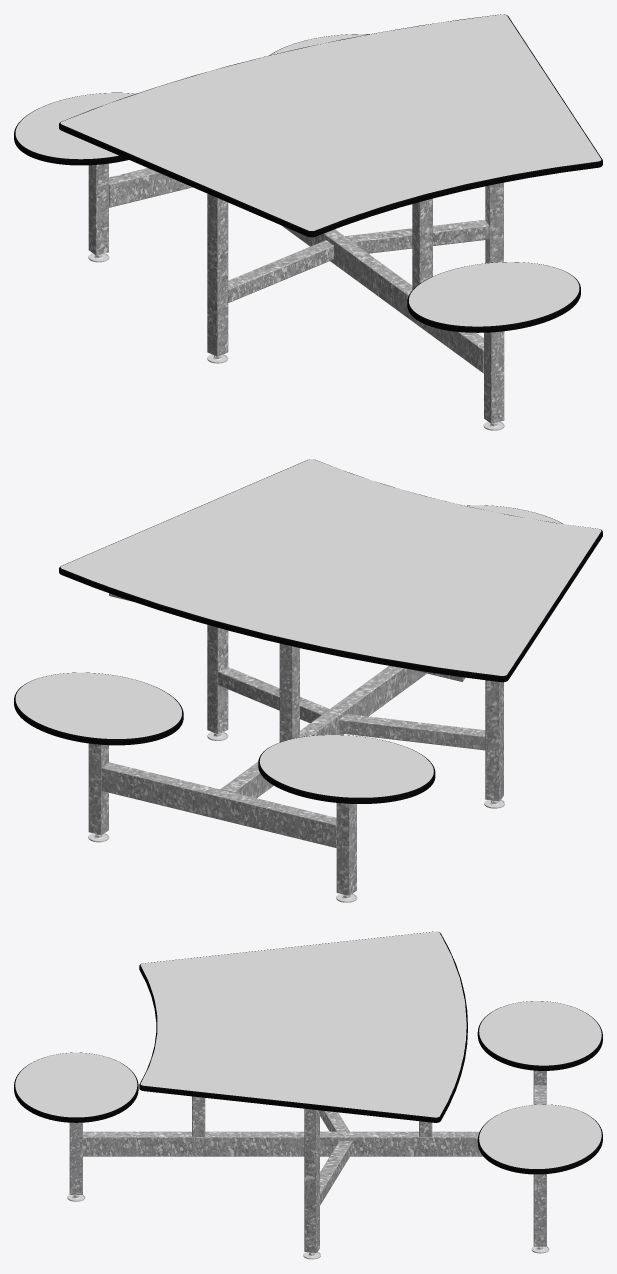
Rendered from fantas-tisch-bambini-bogenfoermig.glb.
3 renders of one model, top to bottom at view 1: azimuth 30°, elevation 25°; view 2: azimuth 150°, elevation 25°; view 3: azimuth 270°, elevation 25°, orthographic. The views are drawn at different scales.
Parts seen in each view (by area): view 1: Tischplatte, Gestell, Sitzplatte, HPL-Kante; view 2: Tischplatte, Gestell, Sitzplatte, HPL-Kante, Stellgleiter; view 3: Tischplatte, Sitzplatte, Gestell, HPL-Kante.
Part boxes in pixels (<box>): Tischplatte: <box>60,14,601,230</box>; Gestell: <box>88,163,504,423</box>; Sitzplatte: <box>15,34,579,326</box>; HPL-Kante: <box>14,14,602,332</box>; Tischplatte: <box>60,459,601,675</box>; Gestell: <box>88,592,503,895</box>; Sitzplatte: <box>15,505,562,797</box>; HPL-Kante: <box>14,459,602,803</box>; Stellgleiter: <box>88,732,504,902</box>; Tischplatte: <box>140,931,466,1117</box>; Sitzplatte: <box>15,1001,601,1168</box>; Gestell: <box>69,1070,546,1252</box>; HPL-Kante: <box>14,931,602,1174</box>.
Bounding box in the file's own units: 0.9945 × 0.43 × 1.32.
Materials: 3 (1 with a texture image).
